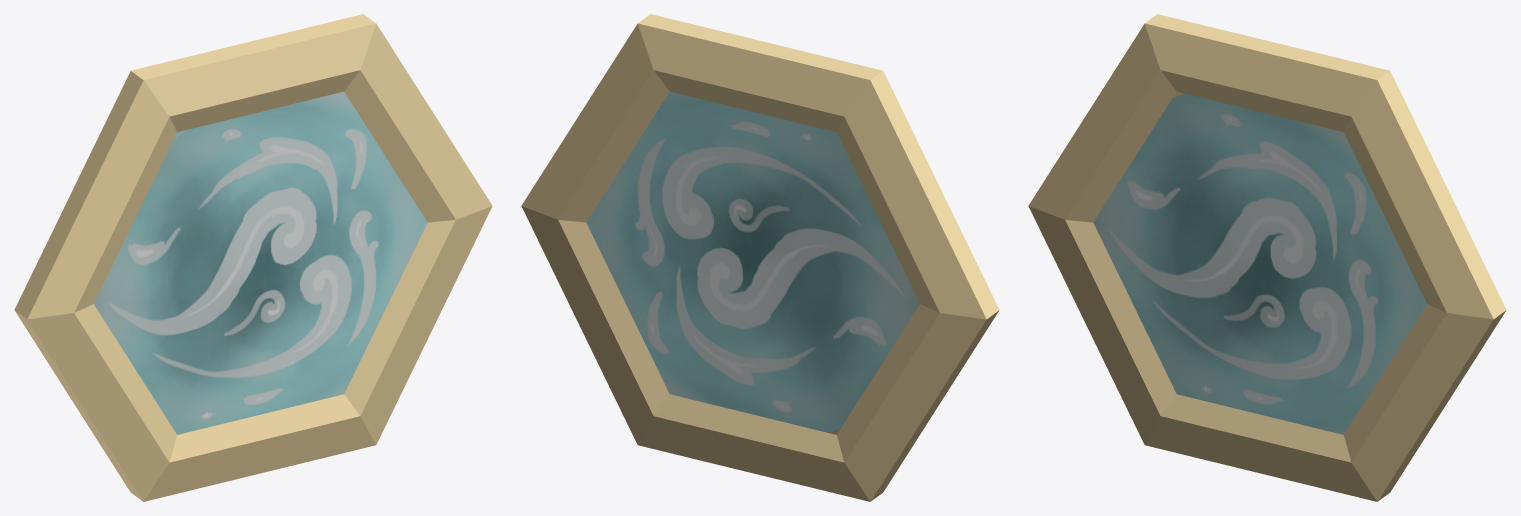
Rendered from WindMedallion.fbx.
The picture shows the model from 3 angles, left to right: view 1: azimuth 30°, elevation 25°; view 2: azimuth 150°, elevation 25°; view 3: azimuth 330°, elevation 25°; orthographic projection.
Visible parts, largest first — view 1: pCylinder1; view 2: pCylinder1; view 3: pCylinder1.
Boxes of the visible parts, x1=… form: pCylinder1: x1=14, y1=14, x2=492, y2=501; pCylinder1: x1=521, y1=14, x2=999, y2=501; pCylinder1: x1=1028, y1=14, x2=1506, y2=501.
Size of the model in its own units: 2.79 by 2.41 by 0.2383.
